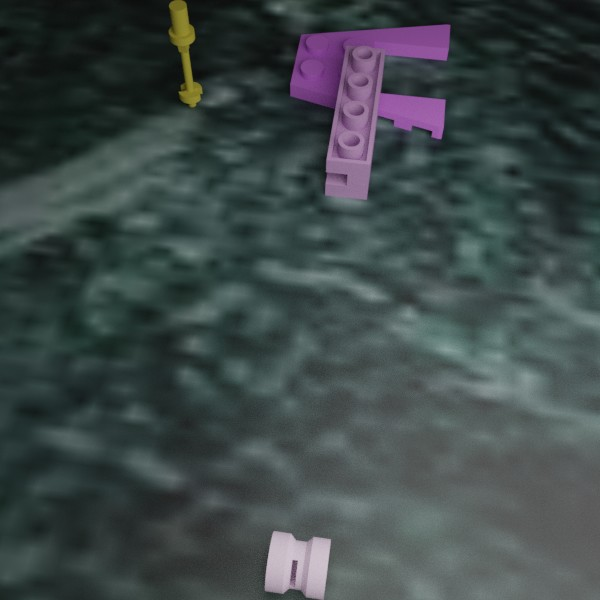lego: (290, 24, 450, 139), (325, 45, 385, 199), (264, 531, 330, 600), (168, 0, 202, 107)
